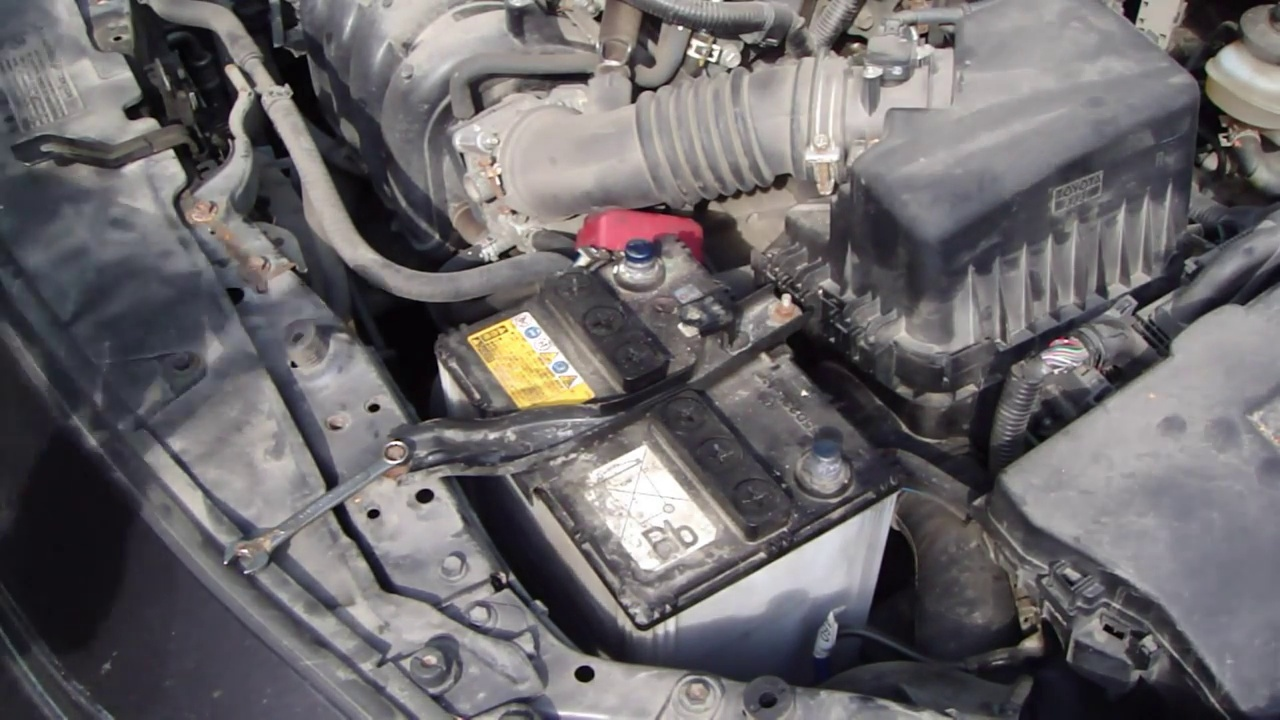battery: (437, 225, 885, 555)
neg_disconnected: (769, 422, 872, 520)
pos_disconnected: (569, 211, 717, 306)
